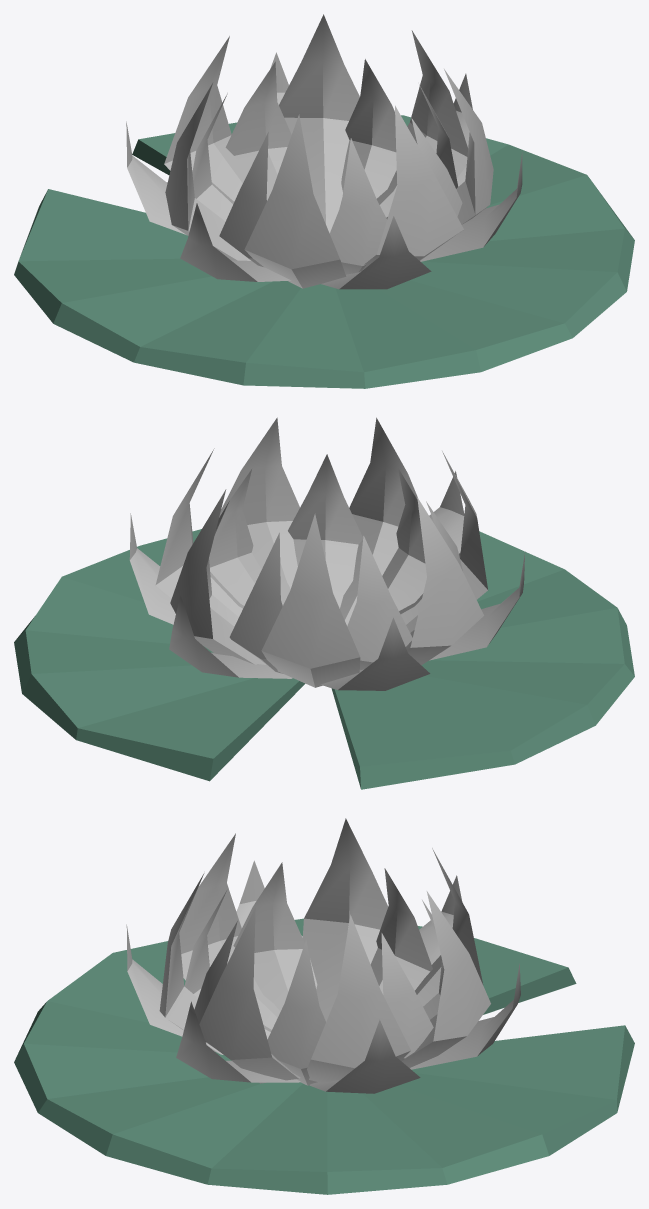
File: LotusLily.fbx
3 renders of one model, top to bottom at view 1: azimuth 30°, elevation 25°; view 2: azimuth 150°, elevation 25°; view 3: azimuth 270°, elevation 25°, orthographic.
Parts seen in each view (by area): view 1: polySurface205, polySurface225; view 2: polySurface205, polySurface225; view 3: polySurface205, polySurface225.
Part boxes in pixels (<box>): polySurface205: <box>14,115,634,388</box>; polySurface225: <box>126,14,522,289</box>; polySurface205: <box>14,529,634,789</box>; polySurface225: <box>129,417,525,690</box>; polySurface205: <box>14,918,634,1194</box>; polySurface225: <box>126,818,520,1093</box>.
Size of the model in its own units: 2.06 by 0.7296 by 2.04.
